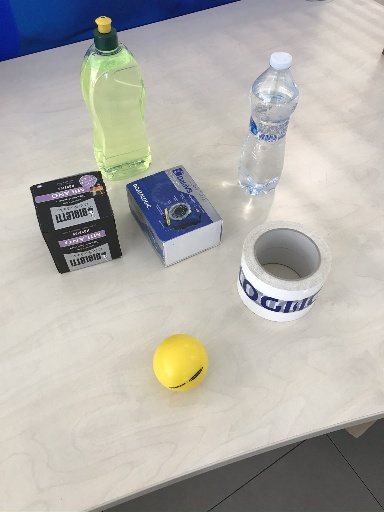Acqua: (239, 51, 300, 195)
Box: (127, 163, 225, 268)
Caffe: (28, 170, 123, 276)
Nastro: (237, 219, 331, 321)
Palla: (153, 333, 210, 392)
Sapone: (79, 13, 157, 180)
